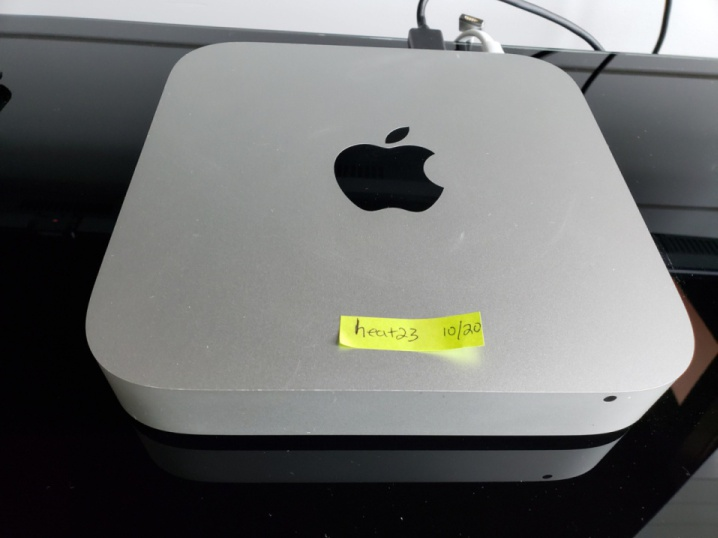apple: (322, 108, 453, 224)
